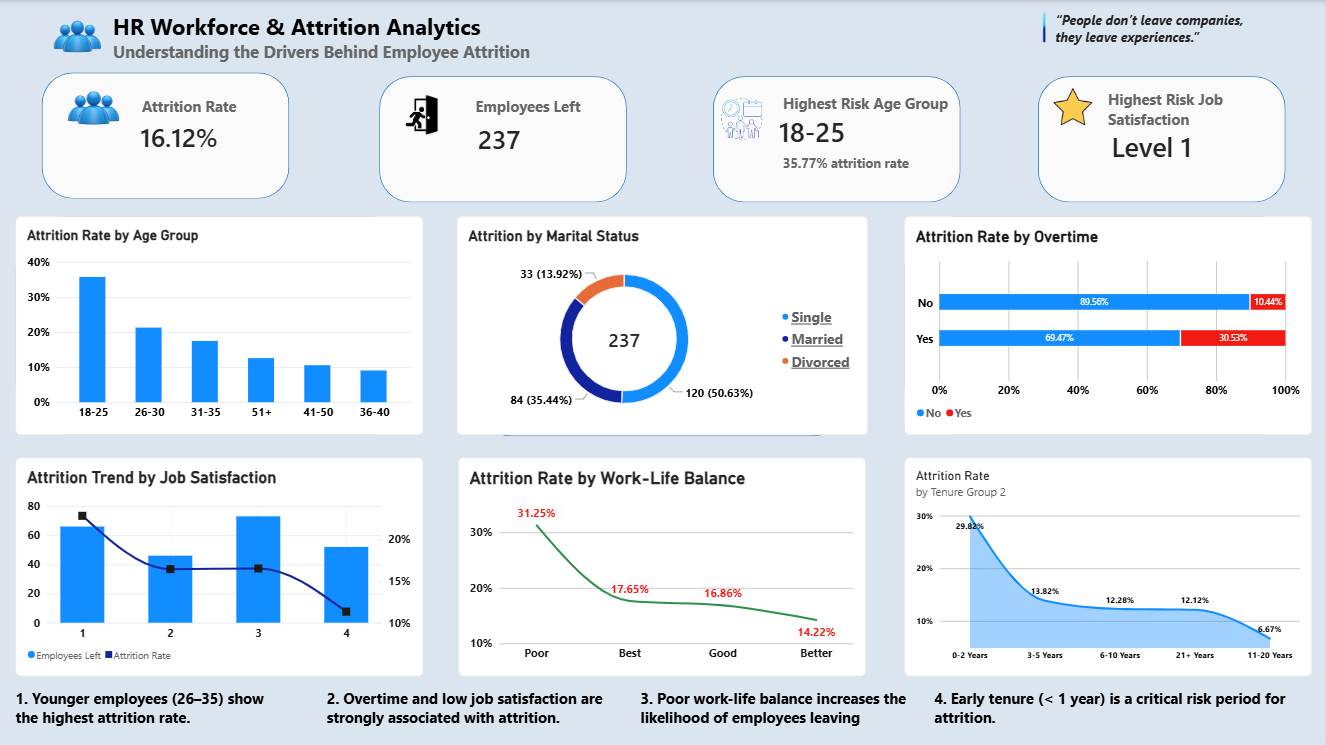

What the dashboard file says about the page in this screenshot:
{"tool":"powerbi","page":{"name":"Attrition Deep Dive","canvas":[1920,1080],"ordinal":1},"visuals":[{"type":"textbox","box":[166.5,16.3,1129.2,88.7],"z":0},{"type":"textbox","box":[1531,16.3,305.8,94.1],"z":1000},{"type":"image","box":[63.3,16.3,103.2,79.6],"z":2000},{"type":"image","box":[1458.6,0,112.2,79.6],"z":3000},{"type":"shape","box":[63.3,105,358.3,182.8],"z":4000},{"type":"shape","box":[551.9,110.4,358.3,182.8],"z":5000},{"type":"shape","box":[1035.1,110.4,358.3,182.8],"z":6000},{"type":"shape","box":[1505.6,110.4,358.3,182.8],"z":7000},{"type":"image","box":[86.9,117.6,103.2,85.1],"z":8000},{"type":"textbox","box":[208.1,139.3,141.2,41.6],"z":9000},{"type":"image","box":[551.9,130.3,126.7,72.4],"z":10000},{"type":"textbox","box":[691.3,139.3,193.6,50.7],"z":11000},{"type":"image","box":[1017,128.5,119.4,86.9],"z":12000},{"type":"textbox","box":[1136.5,133.9,269.6,41.6],"z":13000},{"type":"textbox","box":[1607,128.5,278.7,72.4],"z":14000},{"type":"image","box":[1493,108.6,126.7,92.3],"z":15000},{"type":"cardVisual","fields":{"Data":["Total.Attrition Rate"]},"box":[190,161.1,164.7,72.4],"z":16000},{"type":"cardVisual","fields":{"Data":["Total.Employees Left"]},"box":[678.6,159.3,126.7,81.4],"z":17000},{"type":"cardVisual","fields":{"Data":["Total.Highest Risk Age Group 2"]},"box":[1114.8,146.6,144.8,86.9],"z":18000},{"type":"textbox","box":[1136.5,222.6,237.1,36.2],"z":19000},{"type":"cardVisual","fields":{"Data":["Total.Highest Risk Job Satisfaction 2"]},"box":[1596.1,171.9,175.5,79.6],"z":20000},{"type":"shape","box":[25.3,313.1,589.9,316.7],"z":21000},{"type":"shape","box":[666,314.9,589.9,316.7],"z":22000},{"type":"shape","box":[1312,313.1,589.9,316.7],"z":23000},{"type":"clusteredColumnChart","title":"Attrition Rate by Age Group","fields":{"Category":["Total.Age Category"],"Y":["Total.Attrition Rate"]},"box":[25.3,313.1,590,317],"z":24000},{"type":"donutChart","title":"Attrition by Marital Status","fields":{"Category":["Total.MaritalStatus_1"],"Y":["Total.Employees Left"]},"box":[664.1,313.1,595.4,316.7],"z":25000},{"type":"hundredPercentStackedBarChart","title":"Attrition Rate by Overtime","fields":{"Category":["Total.OverTime"],"Y":["Total.Total Employees"],"Series":["Total.Attrition"]},"box":[1312,313.1,590,317],"z":26000},{"type":"lineStackedColumnComboChart","title":"Attrition Trend by Job Satisfaction","fields":{"Category":["Total.JobSatisfaction"],"Y":["Total.Employees Left"],"Y2":["Total.Attrition Rate"]},"box":[25.3,662.3,590,317],"z":27000},{"type":"lineChart","title":"Attrition Rate by Work-Life Balance","fields":{"Category":["Total.Work life balance "],"Y":["Total.Attrition Rate"]},"box":[666,662,590,317],"z":28000},{"type":"areaChart","fields":{"Y":["Total.Attrition Rate"],"Category":["Total.Tenure Group 2"]},"box":[1312,662,590,317],"z":29000},{"type":"textbox","box":[25.3,995.3,369.2,72.4],"z":30000},{"type":"textbox","box":[475.9,995.3,405.4,85.1],"z":31000},{"type":"textbox","box":[930.2,995.3,463.3,72.4],"z":32000},{"type":"textbox","box":[1355.4,995.3,564.6,77.8],"z":33000}]}

Visuals, with their boxes in screenshot pixels (x1, y1, x2, y2), scaled from the page's 1920x1080 canvas onto the 1326x745 screenshot:
textbox: [115,11,895,72]
textbox: [1057,11,1269,76]
image: [44,11,115,66]
image: [1007,0,1085,55]
shape: [44,72,291,199]
shape: [381,76,629,202]
shape: [715,76,962,202]
shape: [1040,76,1287,202]
image: [60,81,131,140]
textbox: [144,96,241,125]
image: [381,90,469,140]
textbox: [477,96,611,131]
image: [702,89,785,149]
textbox: [785,92,971,121]
textbox: [1110,89,1302,139]
image: [1031,75,1119,139]
cardVisual - Total.Attrition Rate: [131,111,245,161]
cardVisual - Total.Employees Left: [469,110,556,166]
cardVisual - Total.Highest Risk Age Group 2: [770,101,870,161]
textbox: [785,154,949,179]
cardVisual - Total.Highest Risk Job Satisfaction 2: [1102,119,1224,173]
shape: [17,216,425,434]
shape: [460,217,867,436]
shape: [906,216,1313,434]
"Attrition Rate by Age Group" clusteredColumnChart: [17,216,425,435]
"Attrition by Marital Status" donutChart: [459,216,870,434]
"Attrition Rate by Overtime" hundredPercentStackedBarChart: [906,216,1314,435]
"Attrition Trend by Job Satisfaction" lineStackedColumnComboChart: [17,457,425,676]
"Attrition Rate by Work-Life Balance" lineChart: [460,457,867,675]
areaChart - Total.Attrition Rate x Total.Tenure Group 2: [906,457,1314,675]
textbox: [17,687,272,737]
textbox: [329,687,609,744]
textbox: [642,687,962,737]
textbox: [936,687,1325,740]
